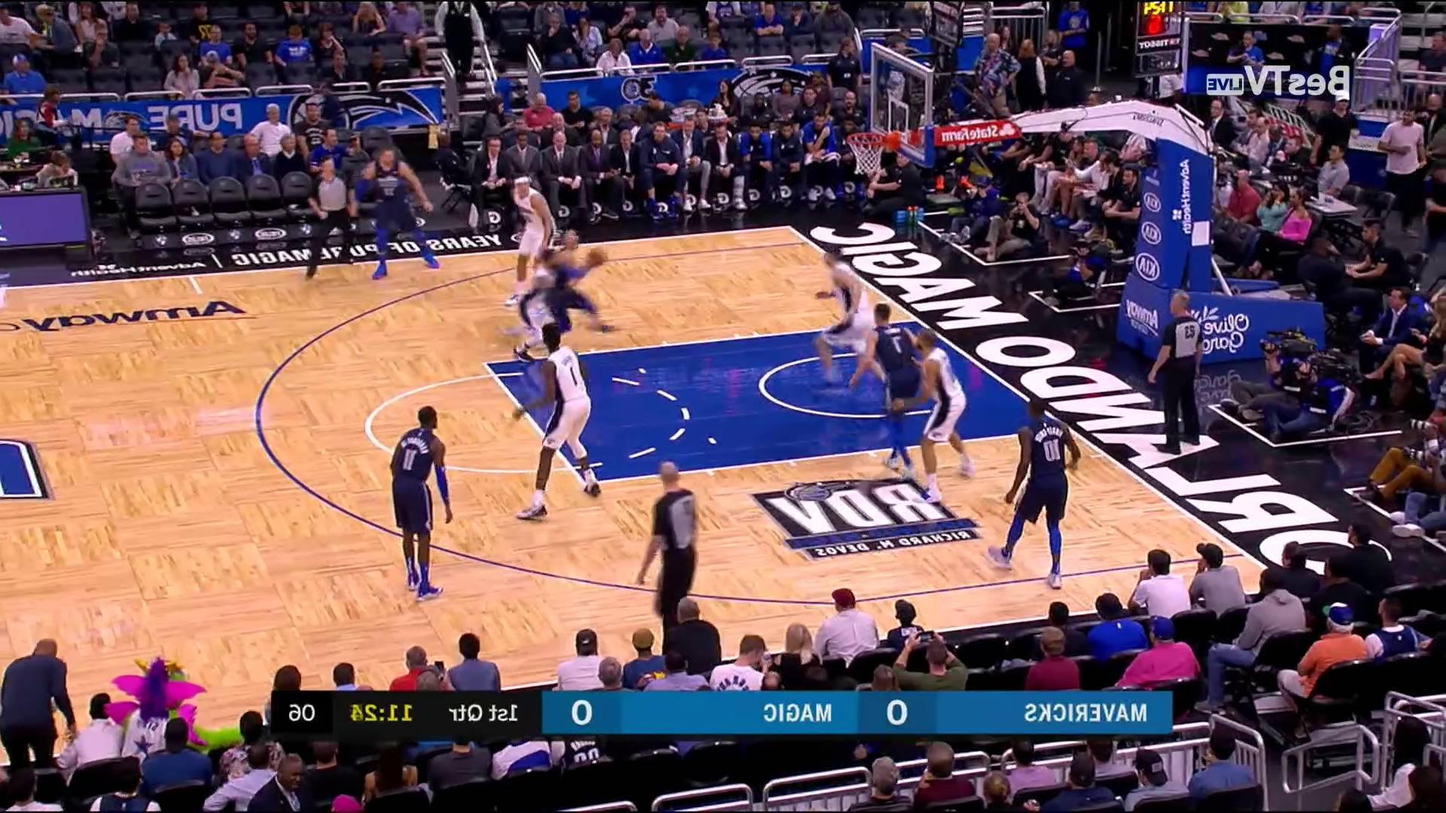basketball: (580, 247, 612, 270)
